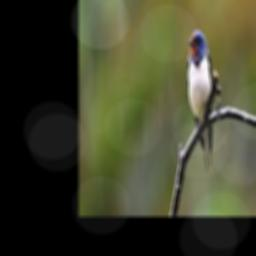Swallow: (187, 30, 213, 171)
